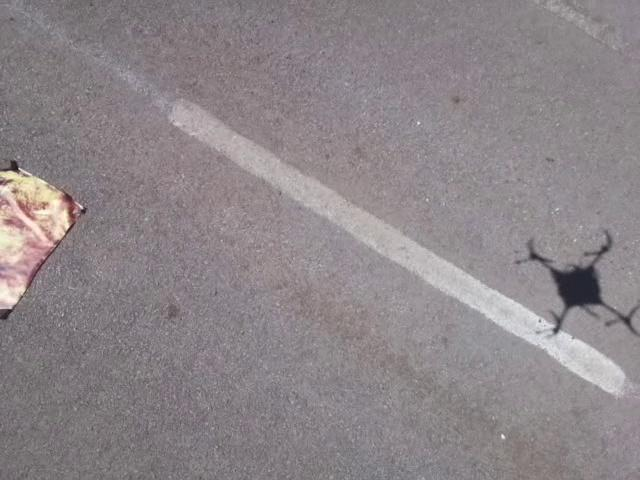fire-poster: (0, 153, 88, 322)
